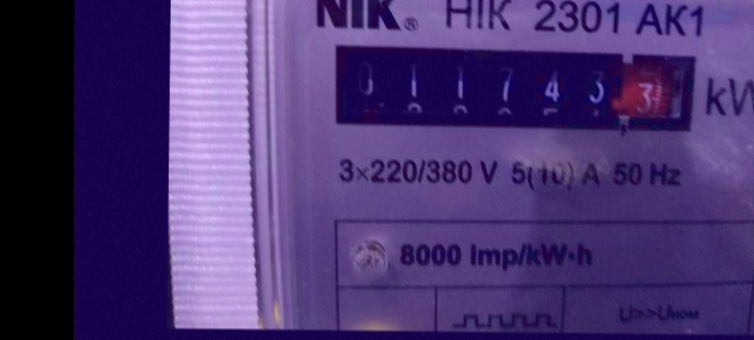0: (355, 58, 378, 97), (405, 58, 424, 99)
1: (452, 59, 469, 101)
3: (587, 64, 608, 107), (635, 77, 655, 116)
4: (542, 63, 563, 104)
7: (495, 60, 519, 104)
screen: (316, 31, 705, 142)
